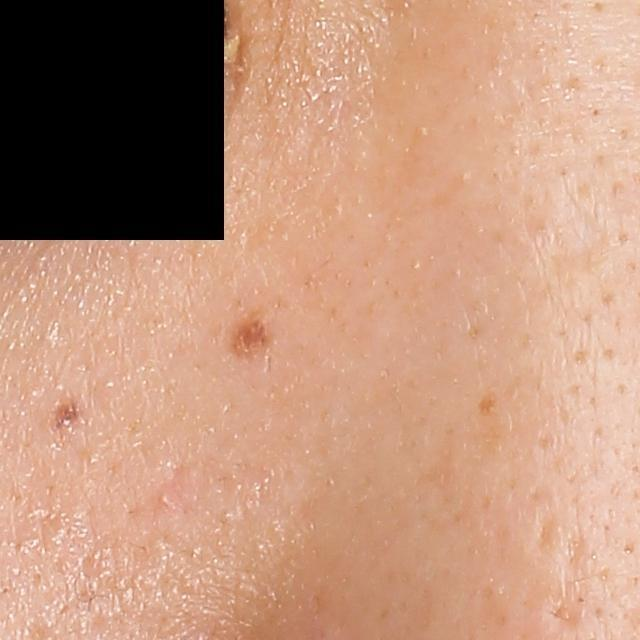atrophic_scar: (552, 595, 583, 636), (539, 513, 562, 552), (567, 536, 588, 577)
melasma: (478, 390, 498, 416)
nevus: (42, 388, 95, 441), (230, 313, 283, 355)
